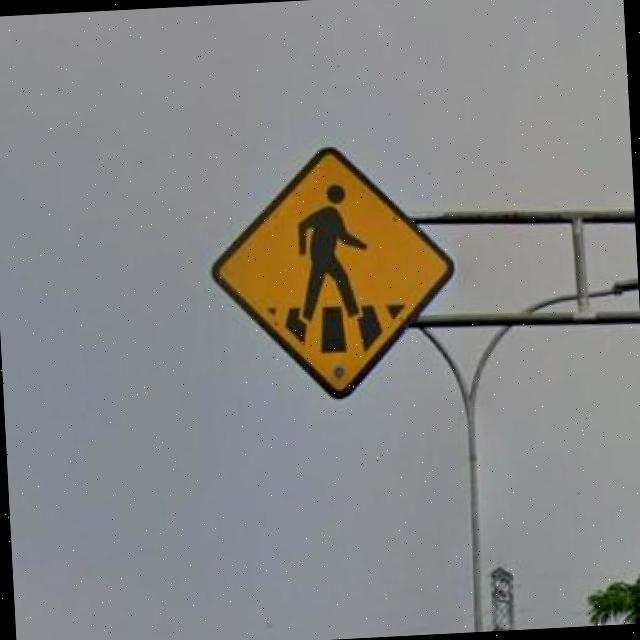Przejscie dla pieszych: (212, 143, 456, 395)
